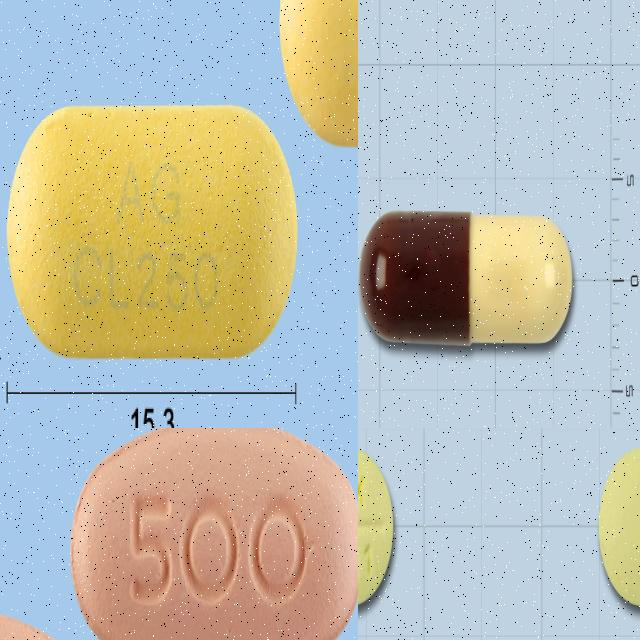Imuran: (599, 446, 640, 607), (358, 446, 395, 605)
Kymoxin Cap: (358, 212, 574, 346)
Levo F: (71, 428, 358, 640)
Shuclari Tab-500mg: (7, 106, 300, 361)
